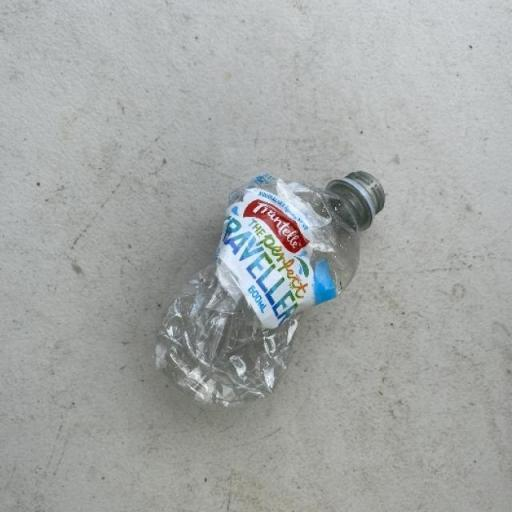plastic: (152, 168, 388, 412)
